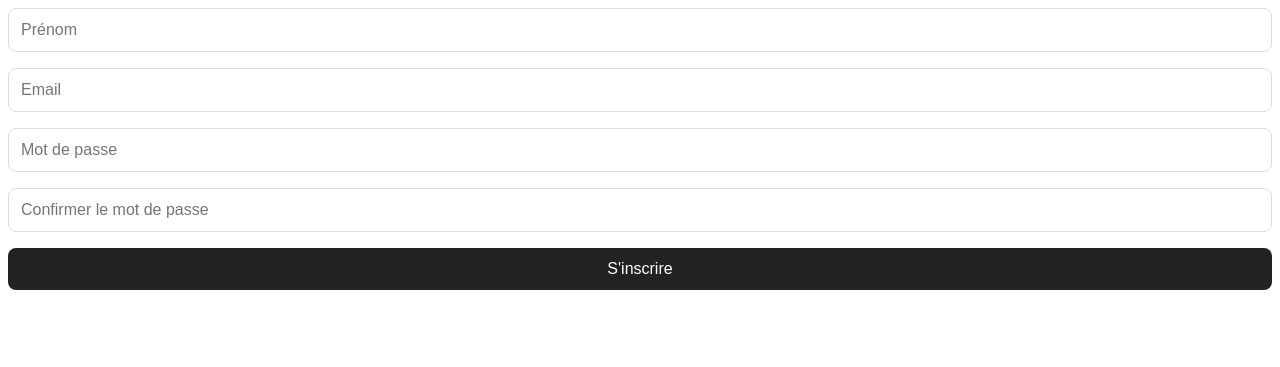
Test case: RegisterForm › affiche une erreur si les champs sont vides
Step 1. Click the button "S'inscrire" → point(640, 269), box [8, 248, 1272, 290]
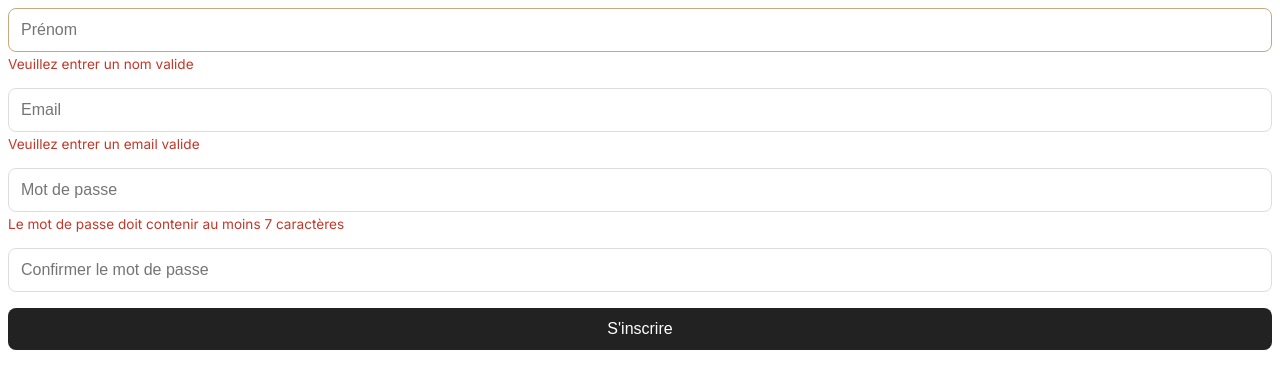
Expected: the text "Veuillez entrer un nom valide" is shown, [8, 56, 194, 72]
Expected: the text "Veuillez entrer un email valide" is shown, [8, 136, 200, 152]
